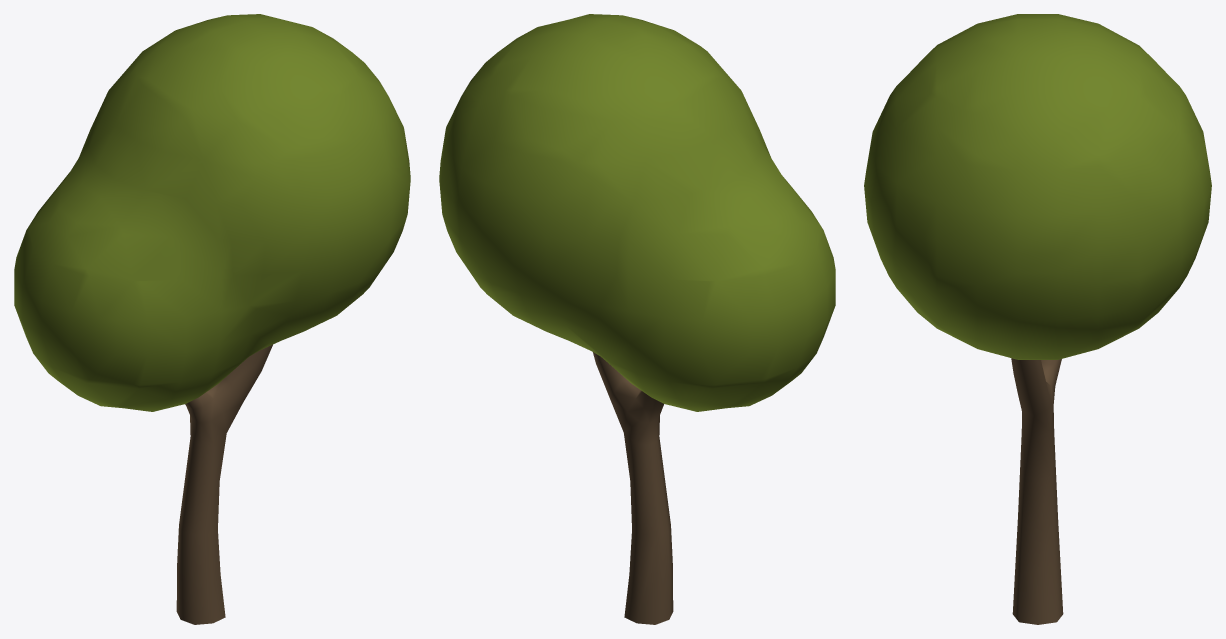
Rendered from tree2.glb.
The picture shows the model from 3 angles, left to right: view 1: azimuth 30°, elevation 25°; view 2: azimuth 150°, elevation 25°; view 3: azimuth 270°, elevation 25°; orthographic projection. The views are drawn at different scales.
Parts seen in each view (by area): view 1: Tree_4; view 2: Tree_4; view 3: Tree_4.
Boxes of the visible parts, left/top/right/bottom form: Tree_4: left=14, top=14, right=410, bottom=624; Tree_4: left=439, top=14, right=835, bottom=624; Tree_4: left=864, top=14, right=1211, bottom=624.
Bounding box in the file's own units: 3.3 × 5.08 × 2.63.
